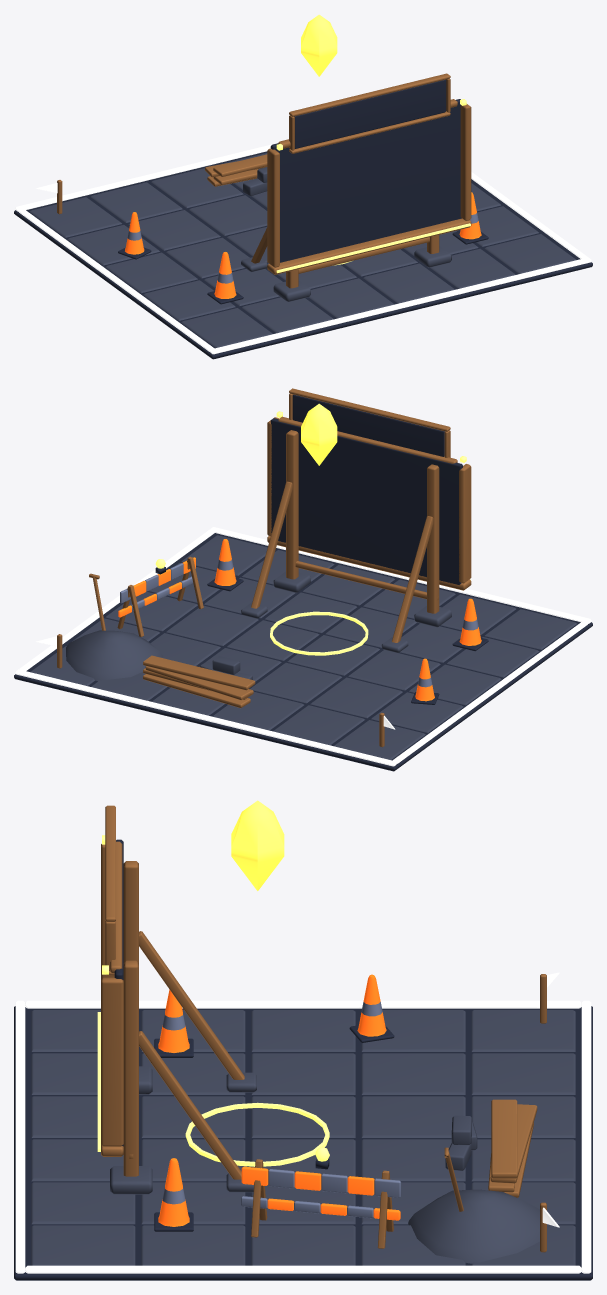
The model's file is lot0_empty.glb.
3 renders of one model, top to bottom at view 1: azimuth 30°, elevation 25°; view 2: azimuth 150°, elevation 25°; view 3: azimuth 270°, elevation 25°, orthographic. The views are drawn at different scales.
Parts seen in each view (by area): view 1: Lot, Gem; view 2: Lot, Gem; view 3: Lot, Gem.
Part boxes in pixels (<box>): Lot: <box>14,73,592,359</box>; Gem: <box>301,14,337,76</box>; Lot: <box>14,388,592,771</box>; Gem: <box>301,403,337,465</box>; Lot: <box>14,805,592,1280</box>; Gem: <box>231,800,284,890</box>.
Bounding box in the file's own units: 8.4 × 5.01 × 7.6.
